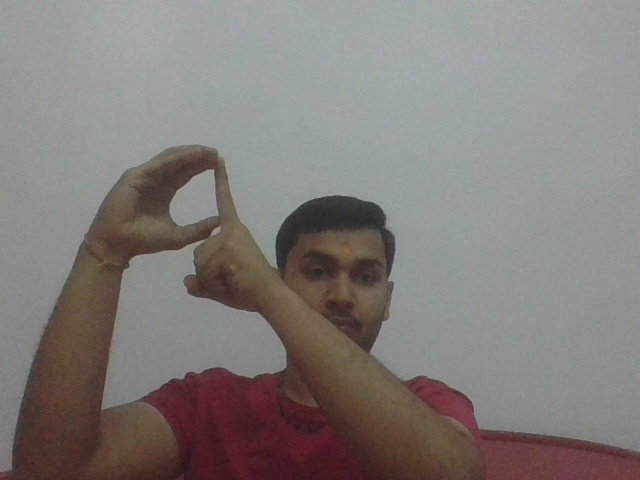D: (91, 142, 264, 313)
